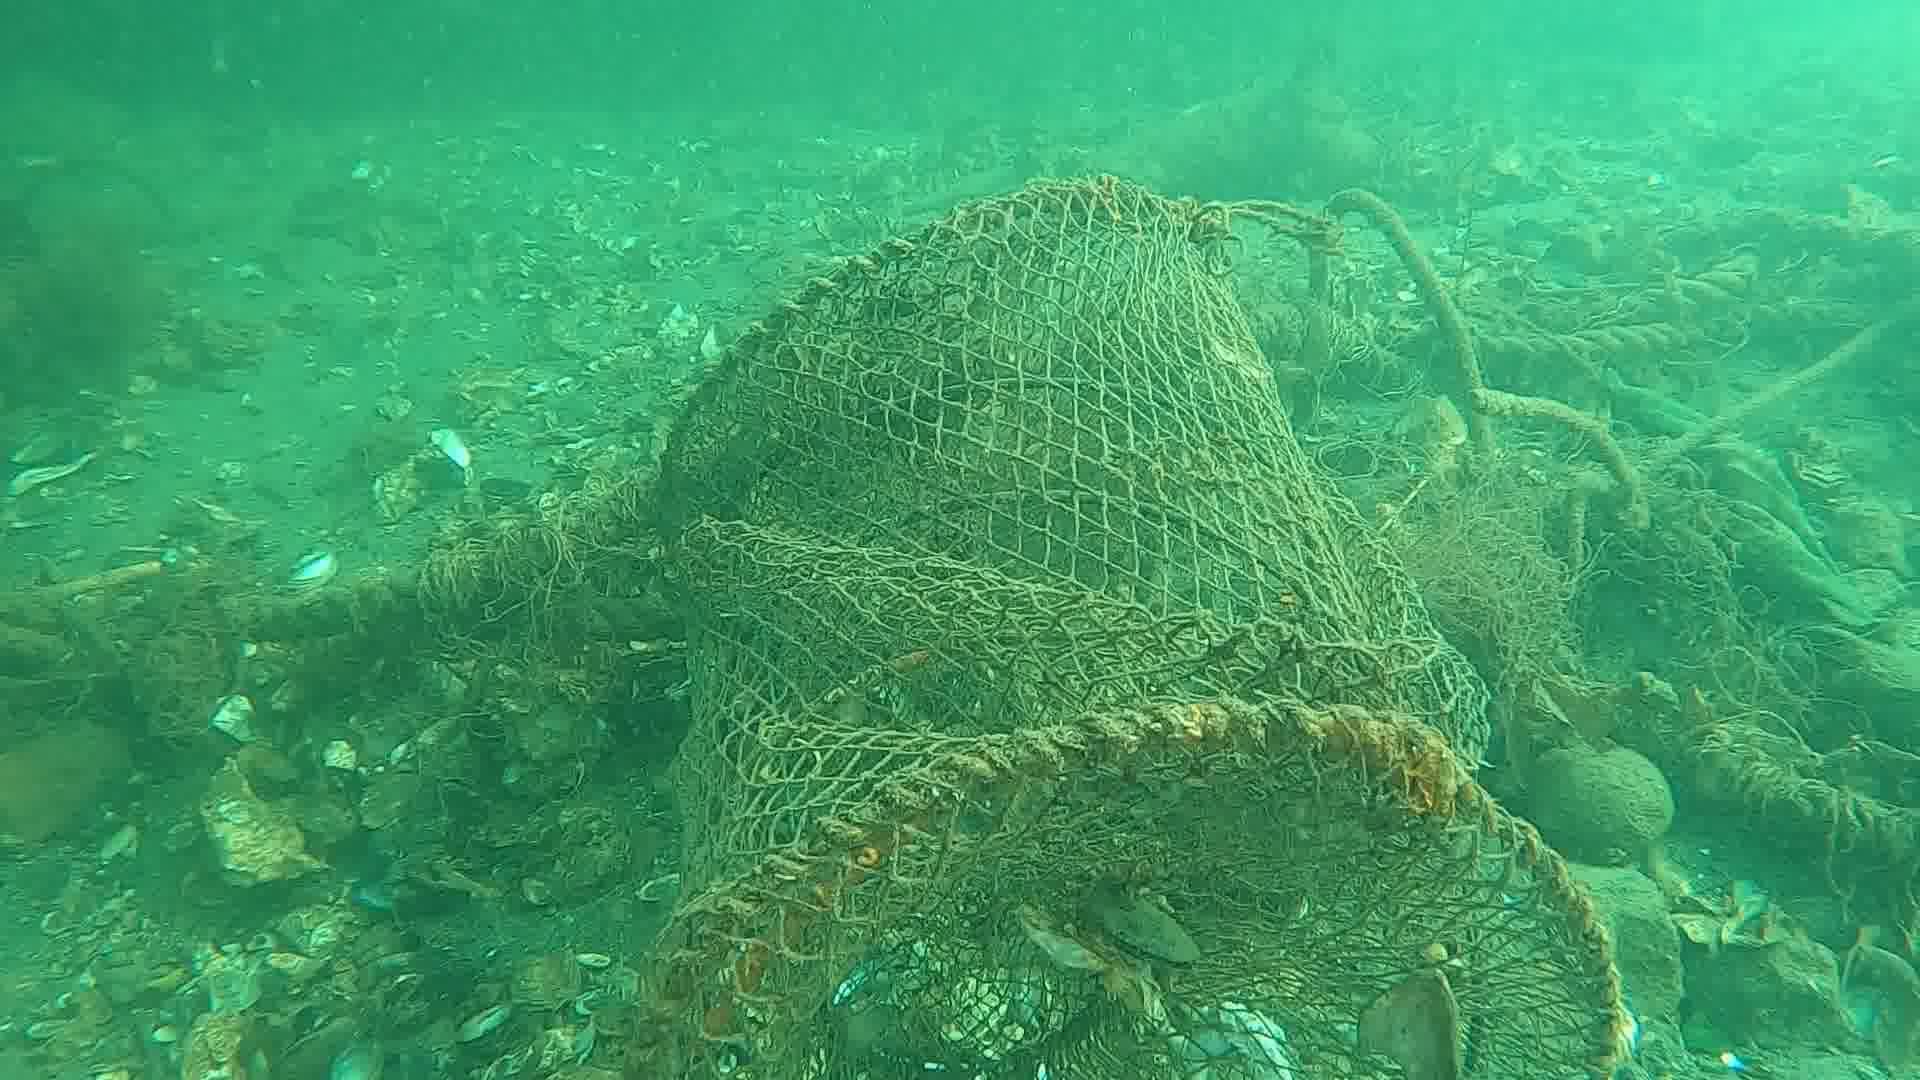bundle of ropes: (1480, 257, 1756, 364)
spring fish trap: (653, 173, 1630, 1080)
